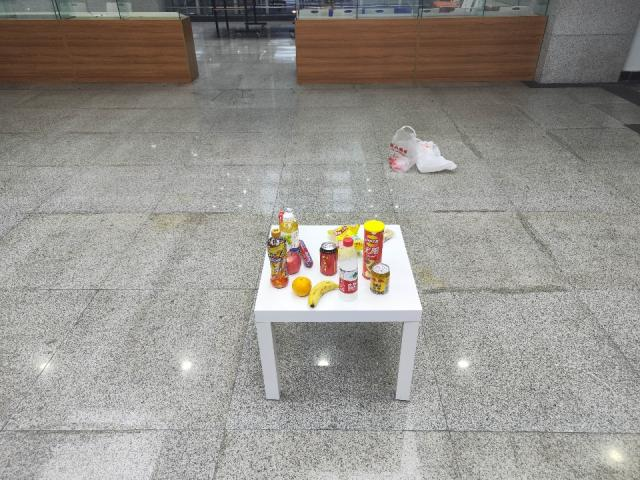Canned_drinks: (368, 255, 392, 301), (319, 241, 342, 280)
